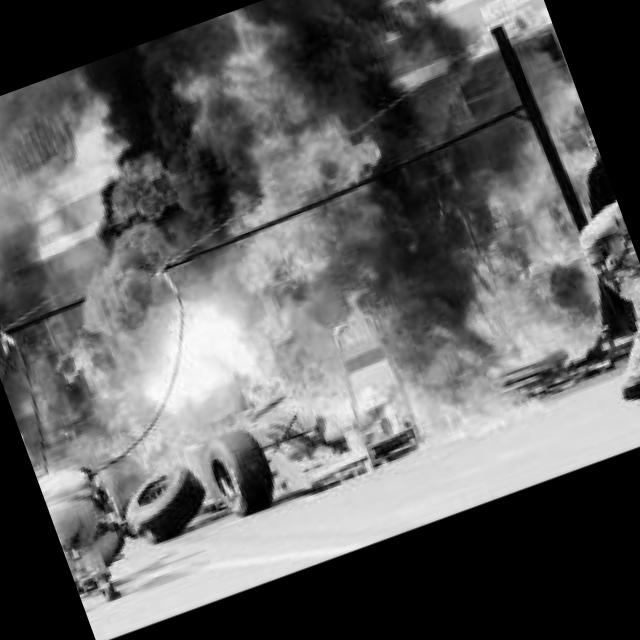fire: (0, 0, 459, 496), (377, 60, 640, 420)
smoke: (285, 0, 498, 323), (36, 138, 215, 334), (0, 104, 96, 452), (376, 0, 570, 121)
